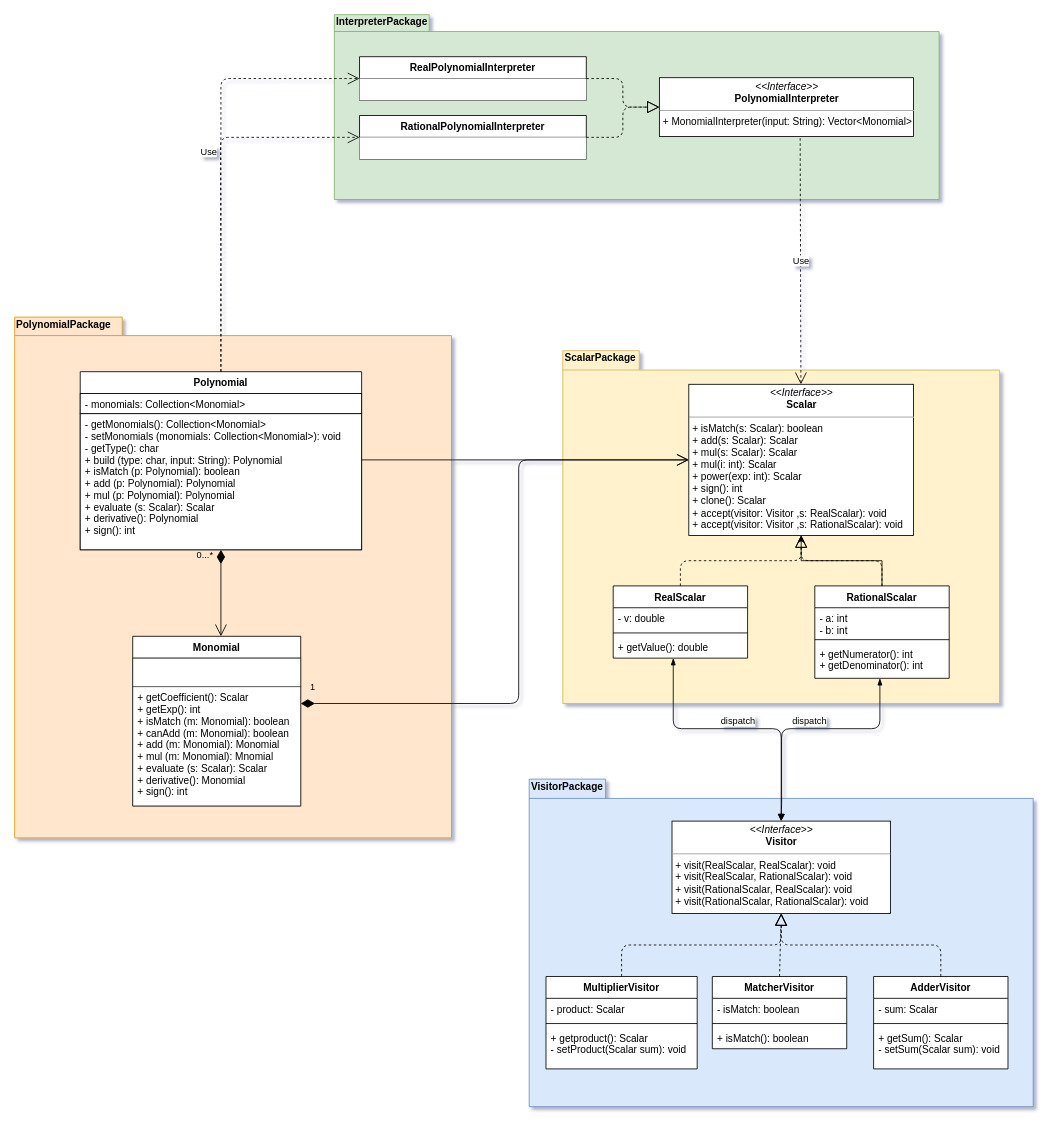
The diagram is 1053 pixels wide and 1126 high, and some of its shapes have lost their labels. Here are the shapes that lost their labels. From the top down, the centre of each, then its label:
At [472,89]: "- extractCoefficient(input: String): RealScalar".
At [472,148]: "- extractCoefficient(input: String): RationalScalar".
At [216,672]: "- coe: Scalar - exp: int".
